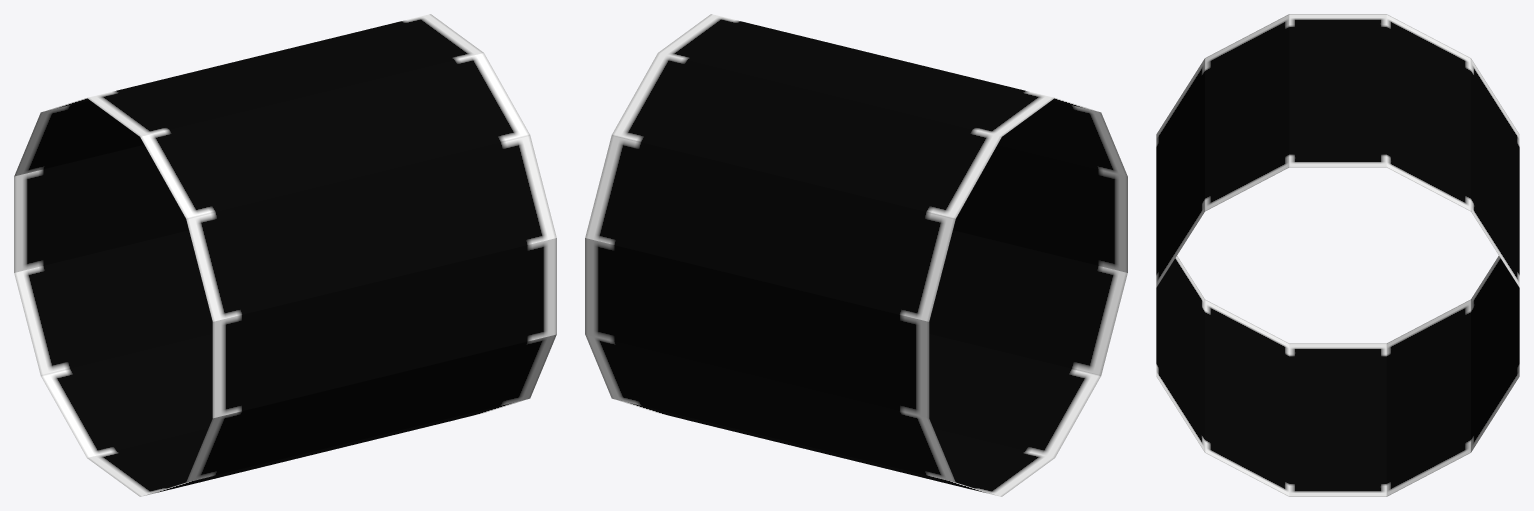
Rendered from MHUD1.obj.
3 views of the same model, side by side, from view 1: azimuth 30°, elevation 25°; view 2: azimuth 150°, elevation 25°; view 3: azimuth 270°, elevation 25° (orthographic). The views are drawn at different scales.
Visible parts, largest first — view 1: cylinder; view 2: cylinder; view 3: cylinder.
Part boxes in pixels (x1=…): cylinder: x1=14, y1=14, x2=556, y2=496; cylinder: x1=585, y1=14, x2=1127, y2=496; cylinder: x1=1156, y1=14, x2=1519, y2=496.
Bounding box in the file's own units: 1 × 1 × 1.
